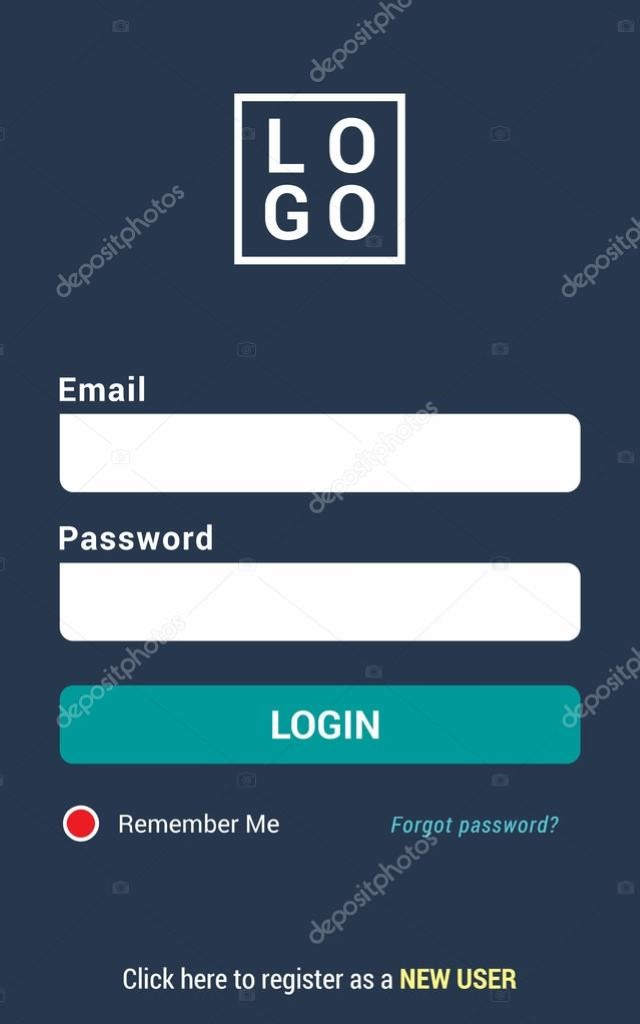button: (58, 683, 581, 764)
label_Login: (263, 705, 391, 750)
label_email: (59, 367, 150, 410)
label_password: (58, 524, 217, 558)
label_remember: (116, 808, 283, 841)
textbox: (61, 561, 580, 642), (59, 411, 580, 491)
